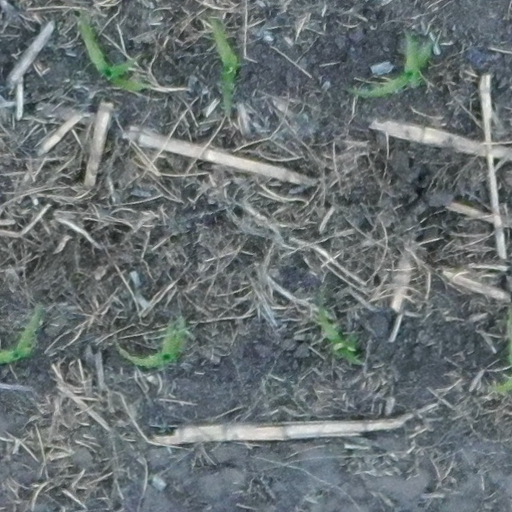planta: (346, 30, 433, 96), (79, 18, 148, 92), (316, 285, 364, 362), (115, 315, 186, 367), (210, 20, 237, 108)
